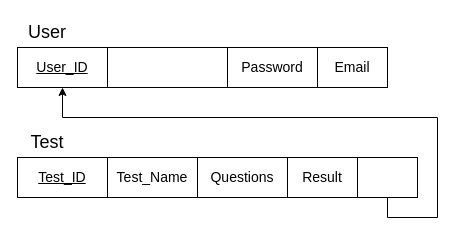
The diagram is 463 pixels wide and 243 high, and some of its shapes have lost their labels. The shapes that lost their labels are listed below. From the top down, each one's centre as x and y in pixels, then its label:
At point 167,67: "Account_Name".
At point 387,177: "Owner".
